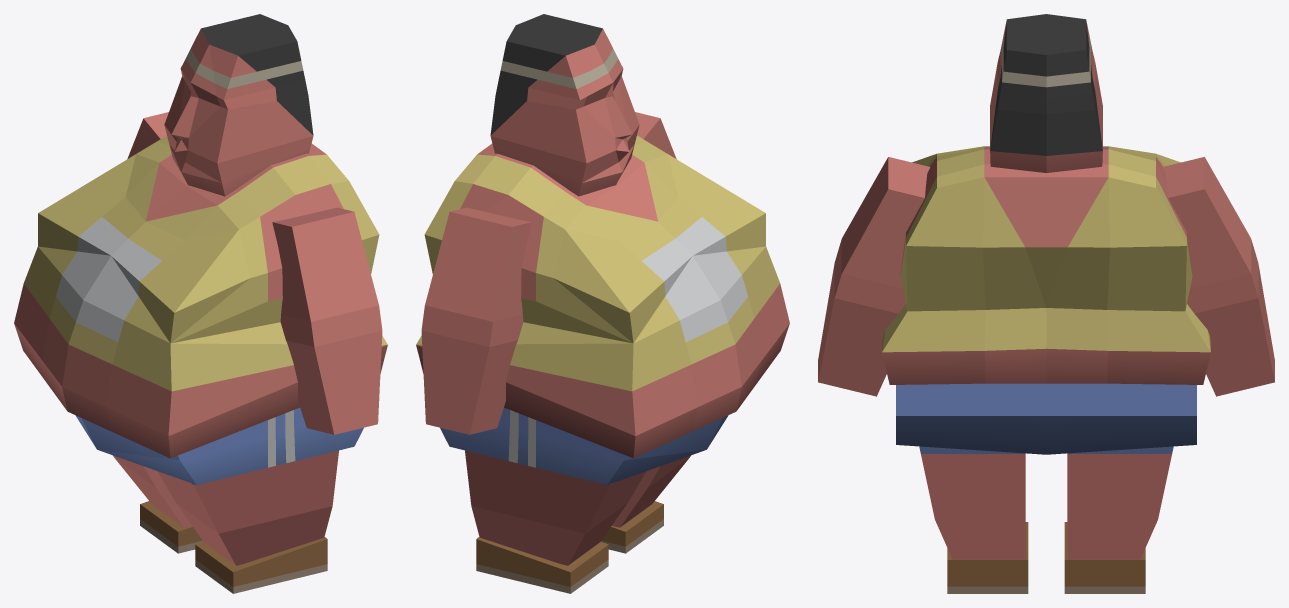
The model's file is fatman_01.fbx.
3 renders of one model, left to right at view 1: azimuth 30°, elevation 25°; view 2: azimuth 150°, elevation 25°; view 3: azimuth 270°, elevation 25°, orthographic. The views are drawn at different scales.
Parts seen in each view (by area): view 1: fatman_01; view 2: fatman_01; view 3: fatman_01.
Boxes of the visible parts, box(x1,y1,x2,y2) form: fatman_01: box(14, 14, 387, 593); fatman_01: box(416, 14, 789, 593); fatman_01: box(818, 14, 1274, 593).
Size of the model in its own units: 185 by 353 by 270.
